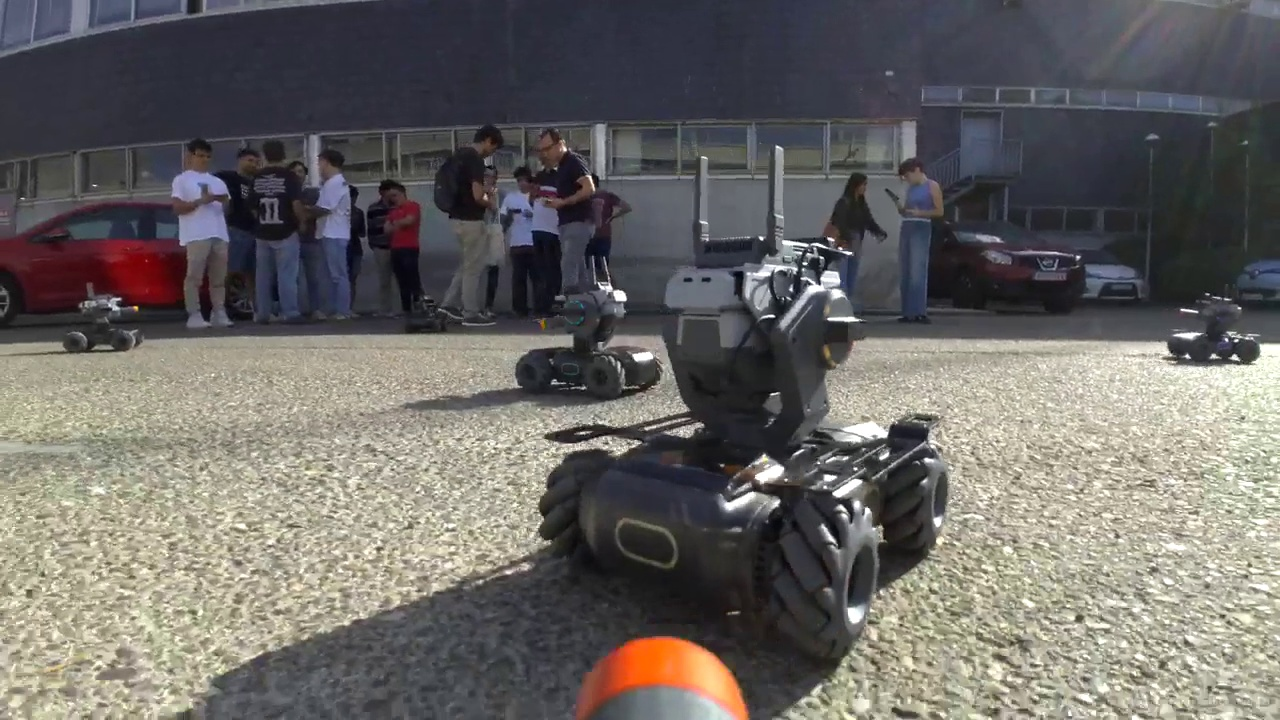robot: (542, 142, 949, 684), (515, 250, 663, 397), (1167, 280, 1262, 365), (61, 279, 144, 353)
